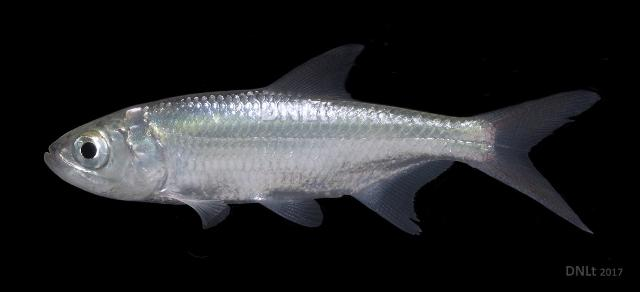Mulut: (40, 134, 80, 192)
Sirip Anal: (352, 155, 454, 240)
Sirip Dada: (171, 190, 237, 234)
Sirip Ekor: (478, 86, 608, 238)
Sirip Perut: (260, 180, 328, 230)
Sirip Punggung: (272, 37, 376, 102)
